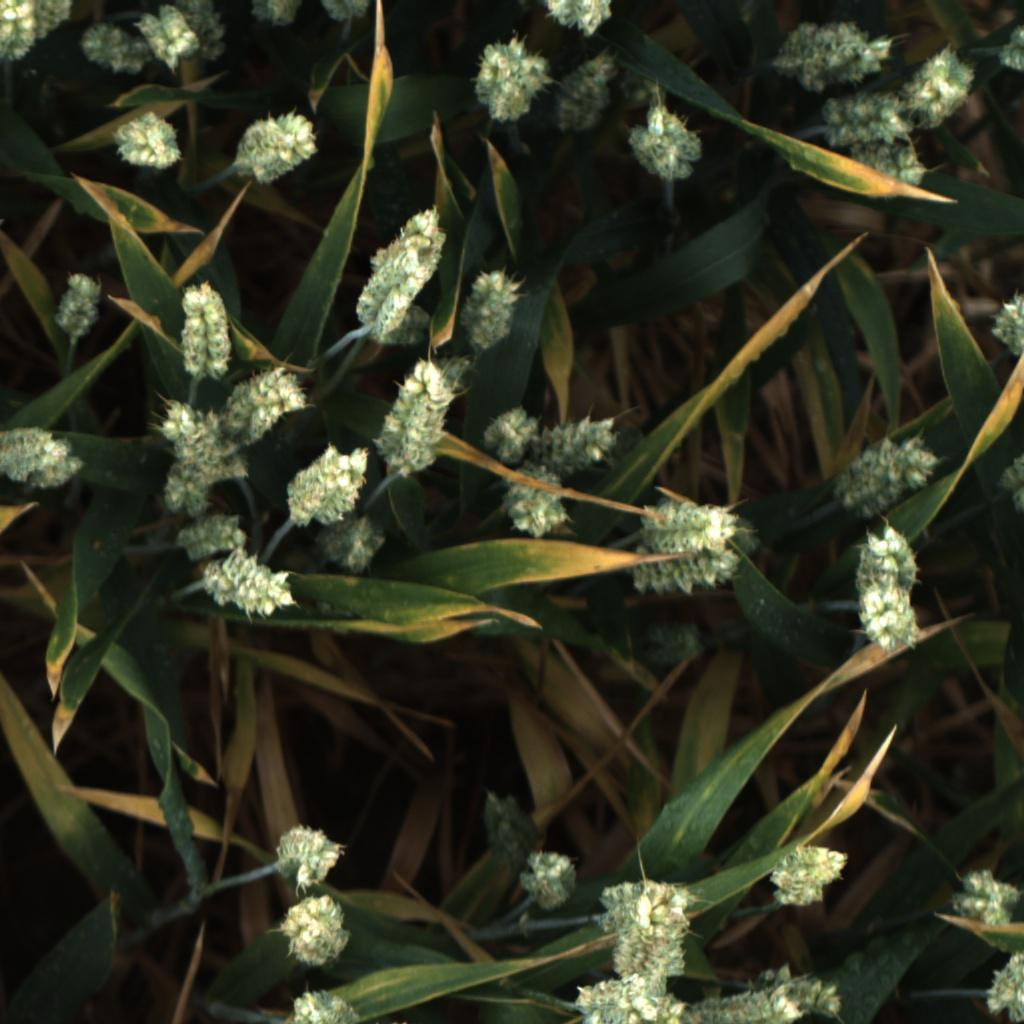0-0: (347, 201, 447, 349), (370, 352, 474, 484), (767, 16, 899, 94), (836, 429, 942, 519), (222, 358, 314, 452), (282, 434, 370, 528), (189, 551, 296, 627), (229, 106, 326, 188), (611, 882, 693, 979), (464, 34, 553, 123), (626, 100, 710, 188), (168, 280, 238, 385), (0, 420, 91, 500), (160, 447, 255, 521), (893, 45, 976, 129), (597, 878, 703, 941), (633, 498, 746, 557), (278, 891, 359, 972), (497, 458, 572, 542), (546, 49, 620, 134), (752, 952, 843, 1021), (629, 550, 744, 603), (459, 265, 529, 352), (569, 974, 688, 1024), (769, 840, 846, 915), (819, 92, 918, 150), (540, 408, 622, 477), (268, 817, 345, 890), (676, 981, 806, 1024), (151, 401, 242, 462), (853, 524, 925, 599), (132, 1, 205, 74), (112, 104, 188, 174), (847, 130, 933, 190), (852, 582, 925, 652), (472, 782, 540, 853), (950, 863, 1022, 929), (314, 517, 393, 576), (513, 845, 580, 914), (49, 267, 107, 343), (478, 402, 542, 470), (78, 15, 149, 76), (173, 510, 253, 560), (170, 0, 228, 66), (364, 301, 438, 350), (537, 0, 624, 40), (616, 61, 674, 118), (644, 616, 706, 669), (284, 984, 362, 1024), (0, 0, 43, 63), (988, 288, 1024, 363), (992, 448, 1024, 517), (33, 0, 77, 49), (248, 0, 310, 32), (318, 0, 373, 27), (999, 22, 1024, 78)
